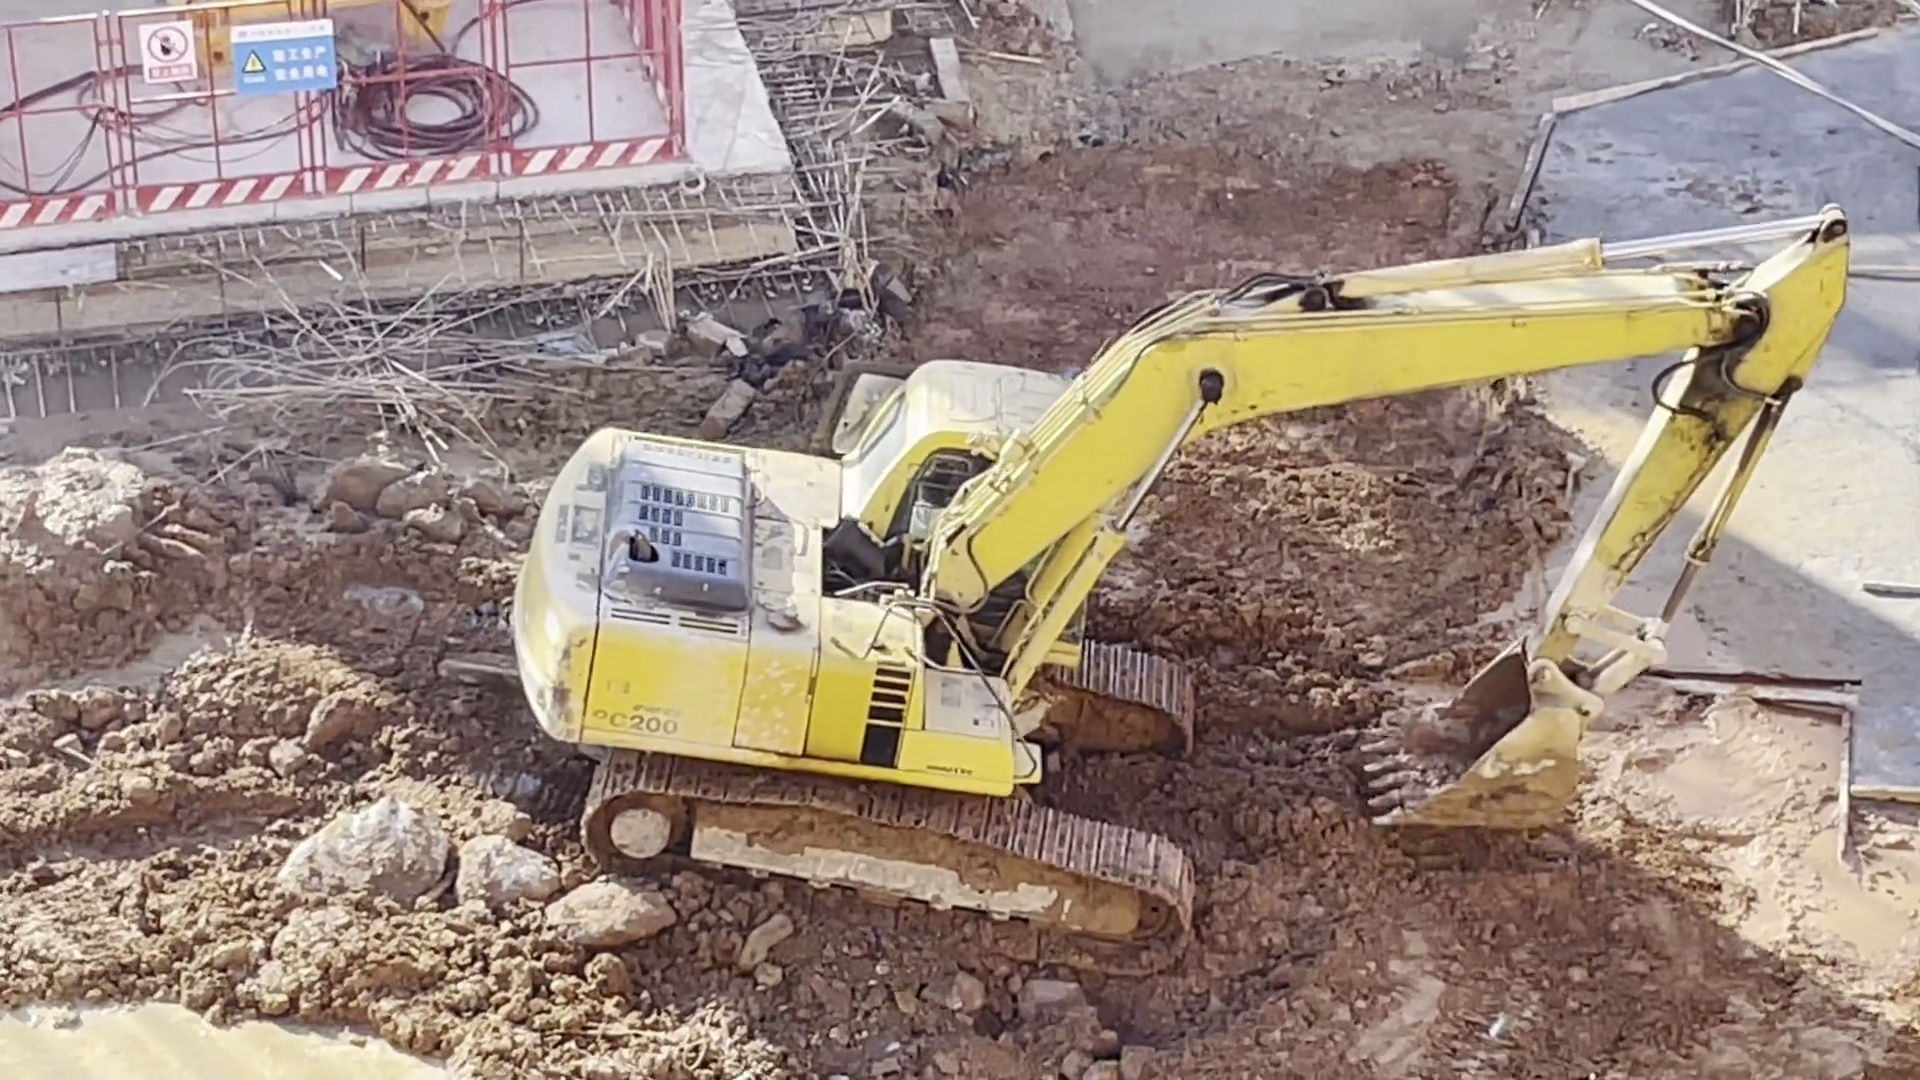slogan: (225, 16, 335, 102)
